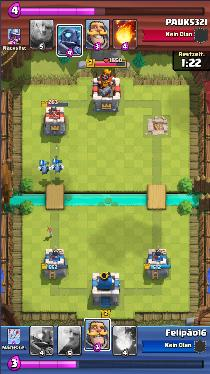ally_minion: (51, 163, 63, 174), (38, 164, 49, 174)
